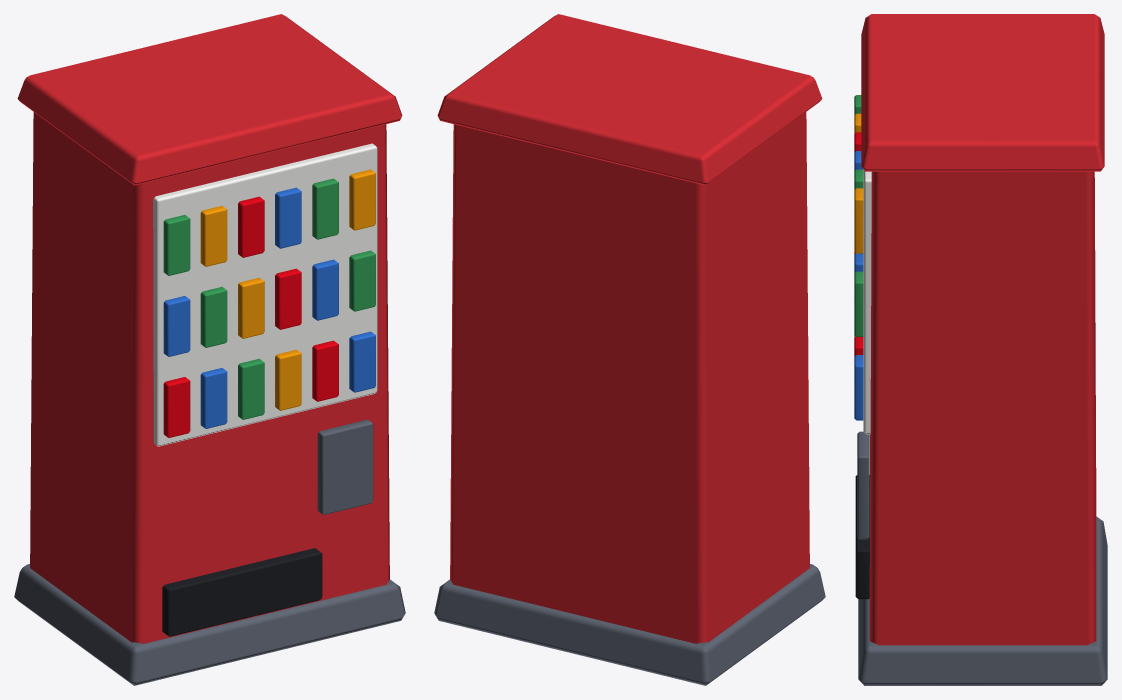
File: vending_machine.glb
3 renders of one model, left to right at view 1: azimuth 30°, elevation 25°; view 2: azimuth 150°, elevation 25°; view 3: azimuth 270°, elevation 25°, orthographic. The views are drawn at different scales.
Visible parts, largest first — view 1: vending_machine; view 2: vending_machine; view 3: vending_machine.
Boxes of the visible parts, x1=… form: vending_machine: x1=14, y1=14, x2=405, y2=685; vending_machine: x1=434, y1=14, x2=825, y2=685; vending_machine: x1=854, y1=14, x2=1107, y2=685.
Bounding box in the file's own units: 1.07 × 1.95 × 0.8268.
